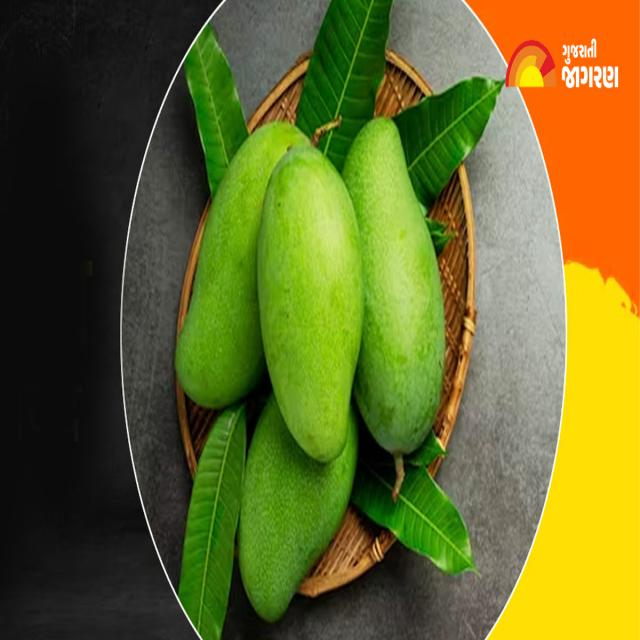raw-image: (257, 139, 365, 456), (364, 119, 452, 458), (174, 130, 258, 417), (243, 436, 317, 624)
